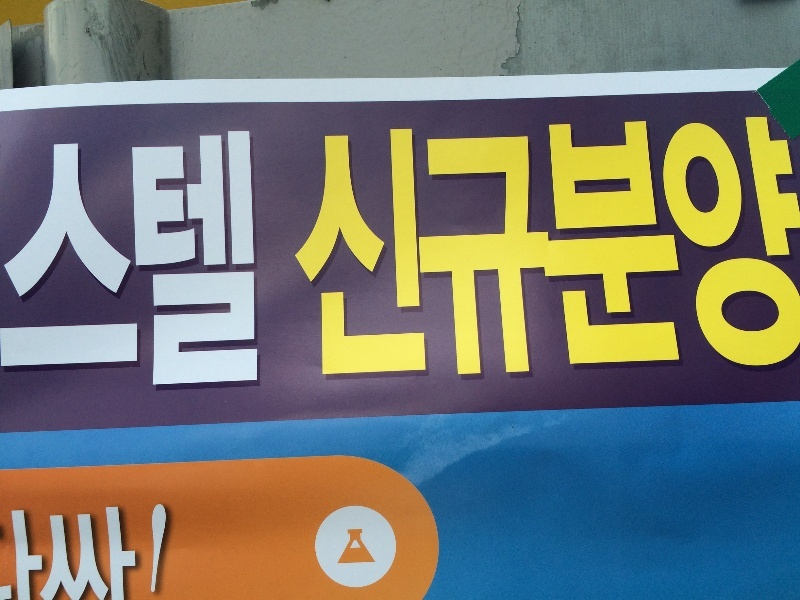text: (305, 112, 320, 382), (321, 112, 336, 382), (337, 112, 352, 382), (353, 112, 368, 382), (369, 112, 384, 382), (385, 112, 400, 382), (401, 112, 416, 382), (417, 112, 432, 382), (433, 112, 448, 382), (449, 112, 464, 382), (465, 112, 480, 382), (481, 112, 496, 382), (497, 112, 512, 382), (513, 112, 528, 382), (529, 112, 544, 382), (545, 112, 560, 382), (561, 112, 576, 382), (577, 112, 592, 382), (593, 112, 608, 382), (609, 112, 624, 382), (625, 112, 640, 382), (641, 112, 656, 382), (657, 112, 672, 382), (673, 112, 688, 382), (689, 112, 704, 382), (705, 112, 720, 382), (721, 112, 736, 382), (737, 112, 752, 382), (753, 112, 768, 382), (769, 112, 784, 382), (785, 112, 800, 382), (17, 127, 32, 394), (33, 127, 48, 394), (49, 127, 64, 394), (65, 127, 80, 394), (81, 127, 96, 394), (97, 127, 112, 394), (113, 127, 128, 394), (129, 127, 144, 394), (145, 127, 160, 394), (161, 127, 176, 394), (177, 127, 192, 394), (193, 127, 208, 394), (209, 127, 224, 394), (225, 127, 240, 394), (241, 127, 256, 394), (2, 127, 16, 394), (296, 112, 304, 382), (17, 504, 32, 600), (33, 504, 48, 600), (49, 504, 64, 600), (65, 504, 80, 600), (81, 504, 96, 600), (97, 504, 112, 600), (113, 504, 128, 600), (129, 504, 144, 600), (145, 504, 160, 600), (2, 504, 16, 600), (257, 127, 260, 394), (161, 504, 169, 600)
